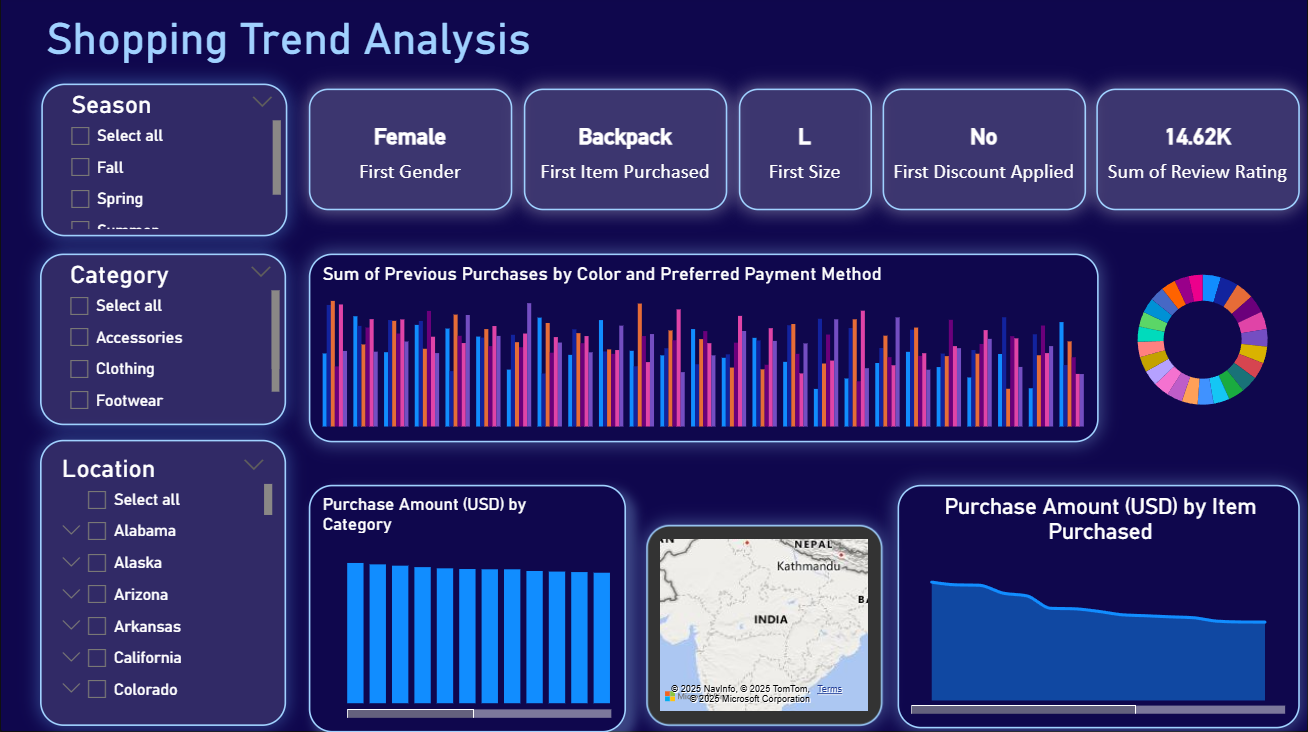

What the dashboard file says about the page in this screenshot:
{"tool":"powerbi","page":{"name":"Page 1","canvas":[1280,720],"ordinal":0},"visuals":[{"type":"slicer","fields":{"Values":["shopping_trends.Category"]},"box":[38.8,252.2,241.1,167.7],"z":0},{"type":"slicer","fields":{"Values":["shopping_trends.Location","shopping_trends.Category","shopping_trends.Season"]},"box":[39.1,434.1,240.9,280],"z":1000},{"type":"slicer","fields":{"Values":["shopping_trends.Season"]},"box":[40.7,85.6,241.1,149.6],"z":2000},{"type":"card","fields":{"Values":["Min(shopping_trends.Size)"]},"box":[723.3,90.1,130.2,119.2],"z":3000},{"type":"card","fields":{"Values":["Min(shopping_trends.Gender)"]},"box":[302.1,90.1,199.5,119.2],"z":4000},{"type":"card","fields":{"Values":["Min(shopping_trends.Item Purchased)"]},"box":[512.7,90.1,199.5,119.2],"z":5000},{"type":"card","fields":{"Values":["Min(shopping_trends.Discount Applied)"]},"box":[863.2,90.1,199.5,119.2],"z":6000},{"type":"card","fields":{"Values":["Sum(shopping_trends.Review Rating)"]},"box":[1073,90.3,199.5,119.2],"z":7000},{"type":"lineChart","title":"Purchase Amount (USD) by Item Purchased","fields":{"Category":["shopping_trends.Item Purchased"],"Y":["Sum(shopping_trends.Purchase Amount (USD))"]},"box":[878,478.1,393.8,238.5],"z":8000},{"type":"donutChart","fields":{"Category":["shopping_trends.Color"],"Y":["Sum(shopping_trends.Age)"]},"box":[1090.5,252.2,171.8,169],"z":9000},{"type":"filledMap","fields":{"Series":["shopping_trends.Location"]},"box":[632.2,517.3,231.1,196.9],"z":10000},{"type":"clusteredColumnChart","title":"Purchase Amount (USD) by Category","fields":{"Category":["shopping_trends.Item Purchased"],"Y":["Sum(shopping_trends.Review Rating)"]},"box":[302,478.1,310.6,242.1],"z":11000},{"type":"clusteredColumnChart","fields":{"Category":["shopping_trends.Color"],"Series":["shopping_trends.Preferred Payment Method"],"Y":["Sum(shopping_trends.Previous Purchases)"]},"box":[302,251.9,772.8,184.6],"z":12000},{"type":"textbox","box":[40.4,12.2,498.9,78.3],"z":13000}]}

Visuals, with their boxes in screenshot pixels (x1, y1, x2, y2), scaled from the page's 1280x720 canvas onto the 1308x732 screenshot:
slicer - shopping_trends.Category: x1=40 y1=256 x2=286 y2=427
slicer - shopping_trends.Location x shopping_trends.Category: x1=40 y1=441 x2=286 y2=726
slicer - shopping_trends.Season: x1=42 y1=87 x2=288 y2=239
card - Min(shopping_trends.Size): x1=739 y1=92 x2=872 y2=213
card - Min(shopping_trends.Gender): x1=309 y1=92 x2=513 y2=213
card - Min(shopping_trends.Item Purchased): x1=524 y1=92 x2=728 y2=213
card - Min(shopping_trends.Discount Applied): x1=882 y1=92 x2=1086 y2=213
card - Sum(shopping_trends.Review Rating): x1=1096 y1=92 x2=1300 y2=213
"Purchase Amount (USD) by Item Purchased" lineChart: x1=897 y1=486 x2=1300 y2=729
donutChart - shopping_trends.Color x Sum(shopping_trends.Age): x1=1114 y1=256 x2=1290 y2=428
filledMap - shopping_trends.Location: x1=646 y1=526 x2=882 y2=726
"Purchase Amount (USD) by Category" clusteredColumnChart: x1=309 y1=486 x2=626 y2=731
clusteredColumnChart - shopping_trends.Color x shopping_trends.Preferred Payment Method: x1=309 y1=256 x2=1098 y2=444
textbox: x1=41 y1=12 x2=551 y2=92
